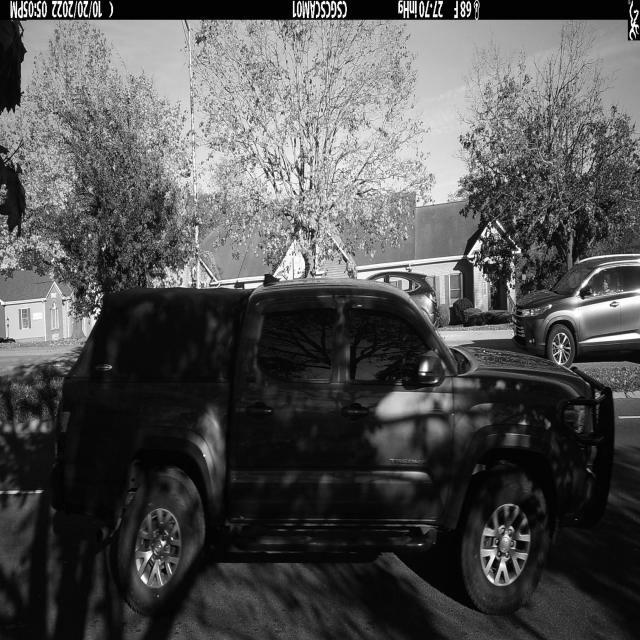Pickup: (50, 273, 617, 621)
